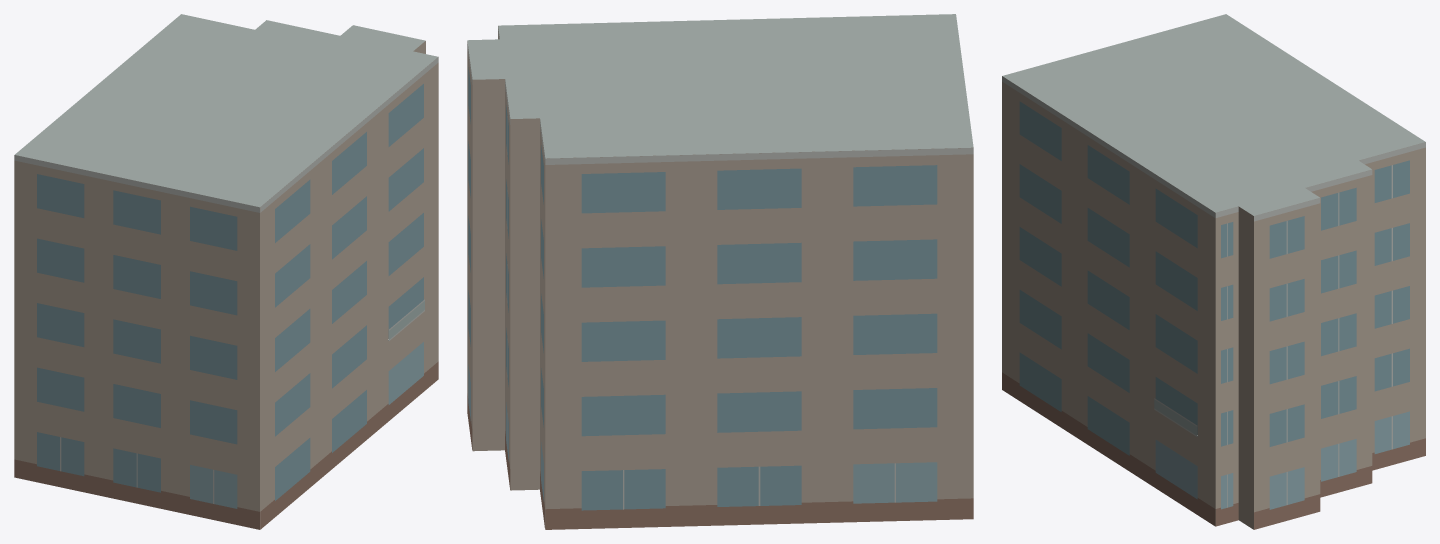
File: survey-upis-32662753.glb
3 views of the same model, side by side, from view 1: azimuth 30°, elevation 25°; view 2: azimuth 150°, elevation 25°; view 3: azimuth 270°, elevation 25° (orthographic). The views are drawn at different scales.
Visible parts, largest first — view 1: survey-upis-32662753.tmp; view 2: survey-upis-32662753.tmp; view 3: survey-upis-32662753.tmp.
Boxes of the visible parts, x1,y1,x2,y2 form: survey-upis-32662753.tmp: (14,14,438,529); survey-upis-32662753.tmp: (467,14,973,529); survey-upis-32662753.tmp: (1002,14,1425,529).
Size of the model in its own units: 19.06 by 13.8 by 16.9.
